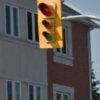Traffic light: (29, 0, 70, 61)
